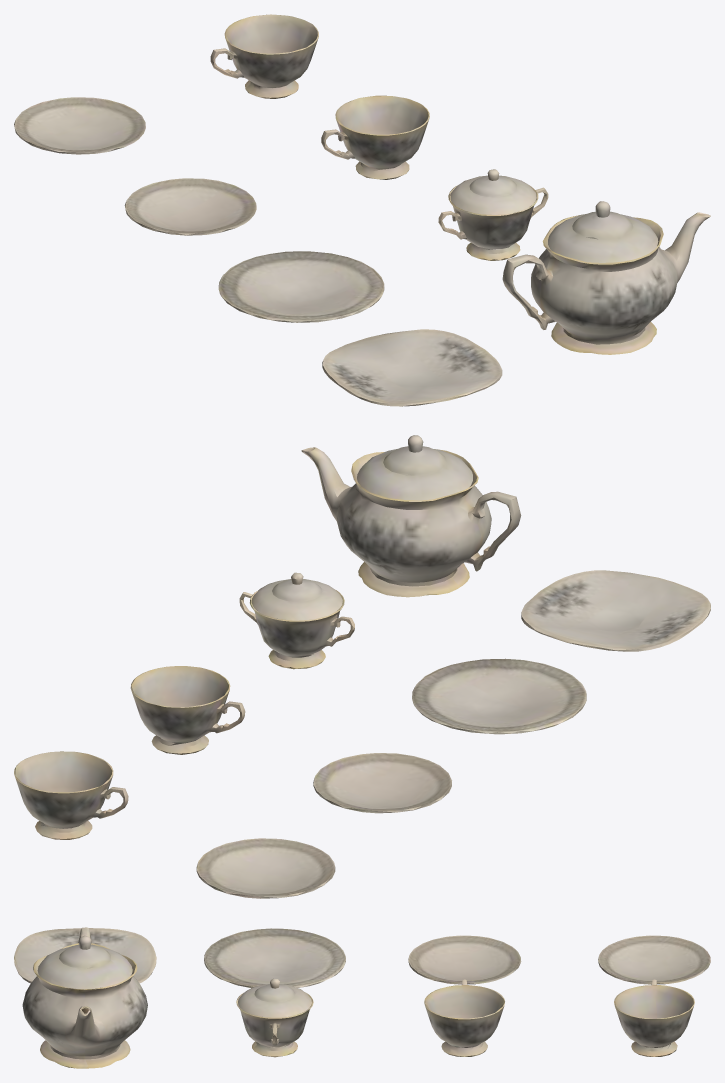
File: tea-service.lod1.glb
3 renders of one model, top to bottom at view 1: azimuth 30°, elevation 25°; view 2: azimuth 150°, elevation 25°; view 3: azimuth 270°, elevation 25°, orthographic. The views are drawn at different scales.
Visible parts, largest first — view 1: tea-service; view 2: tea-service; view 3: tea-service.
Boxes of the visible parts, x1,y1,x2,y2 form: tea-service: (14,14,710,406); tea-service: (14,435,710,898); tea-service: (14,927,710,1068).
Bounding box in the file's own units: 0.2179 × 0.0743 × 0.4133.
Materials: 1 (1 with a texture image).
